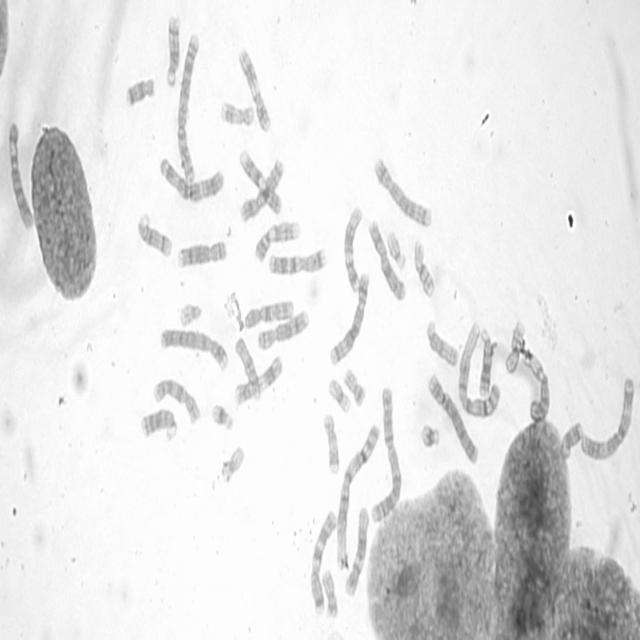A1: (335, 422, 380, 570), (456, 321, 502, 419)
A2: (370, 384, 402, 524), (177, 33, 200, 188)
A3: (580, 375, 635, 462), (160, 156, 225, 204)
B4: (428, 371, 480, 469), (160, 326, 228, 372)
B5: (374, 154, 434, 229), (330, 269, 370, 366)
C10: (152, 376, 201, 426), (243, 298, 296, 330)
C11: (238, 48, 273, 135), (234, 354, 284, 406)
C12: (344, 502, 370, 598), (343, 206, 364, 297)
C6: (7, 118, 36, 232), (522, 347, 551, 422)
C7: (309, 509, 337, 617), (267, 248, 329, 278)
C8: (256, 310, 310, 352), (177, 240, 230, 270)
C9: (238, 148, 283, 216), (254, 218, 301, 264)
D13: (140, 406, 178, 442), (478, 329, 494, 397)
D14: (136, 212, 174, 260), (165, 13, 182, 89)
D15: (234, 336, 262, 405), (426, 317, 459, 369)
E16: (413, 237, 436, 302), (504, 318, 527, 378)
E17: (322, 410, 341, 478), (218, 99, 255, 129)
E18: (125, 74, 156, 108), (560, 421, 584, 460)
F19: (220, 444, 246, 486), (328, 378, 352, 416)
F20: (321, 566, 338, 618), (344, 368, 366, 407)
G21: (212, 400, 234, 433), (419, 420, 441, 452)
G22: (387, 228, 406, 271), (178, 301, 202, 327)
X: (368, 219, 407, 306), (240, 157, 285, 224)
